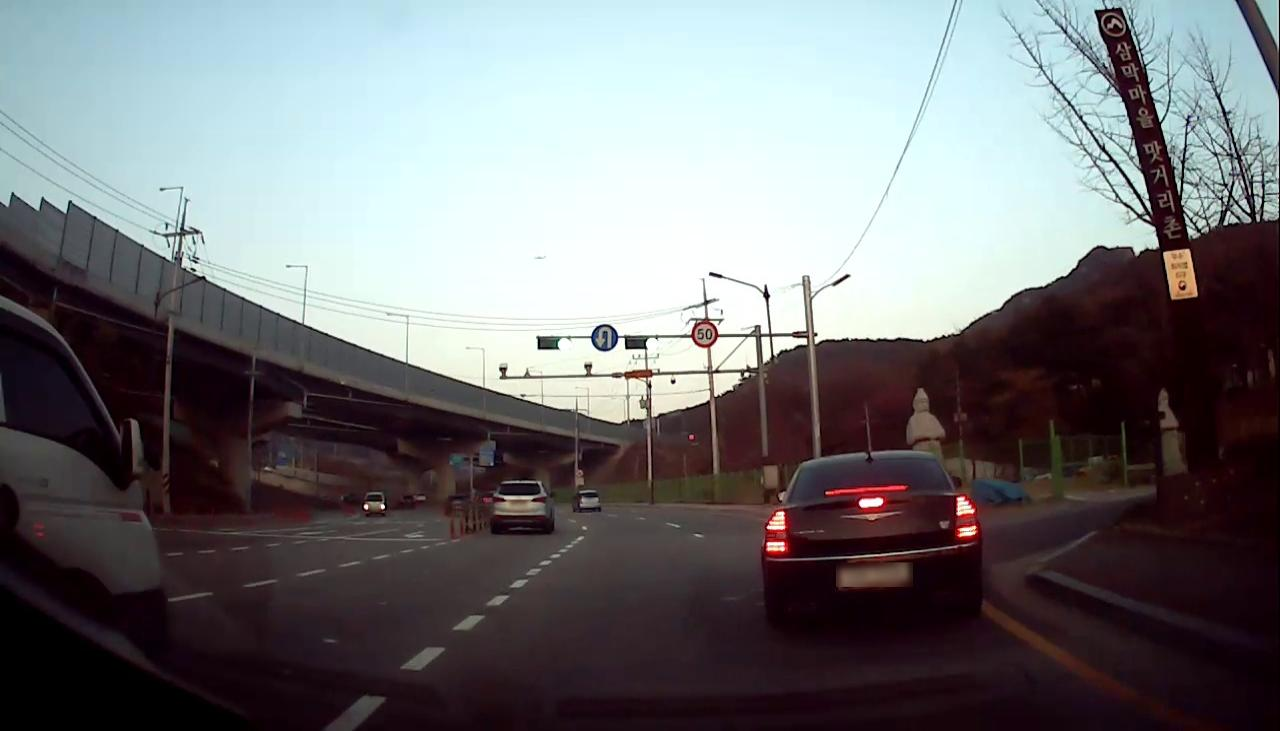Green Light: (556, 337, 572, 351), (644, 337, 660, 350)
